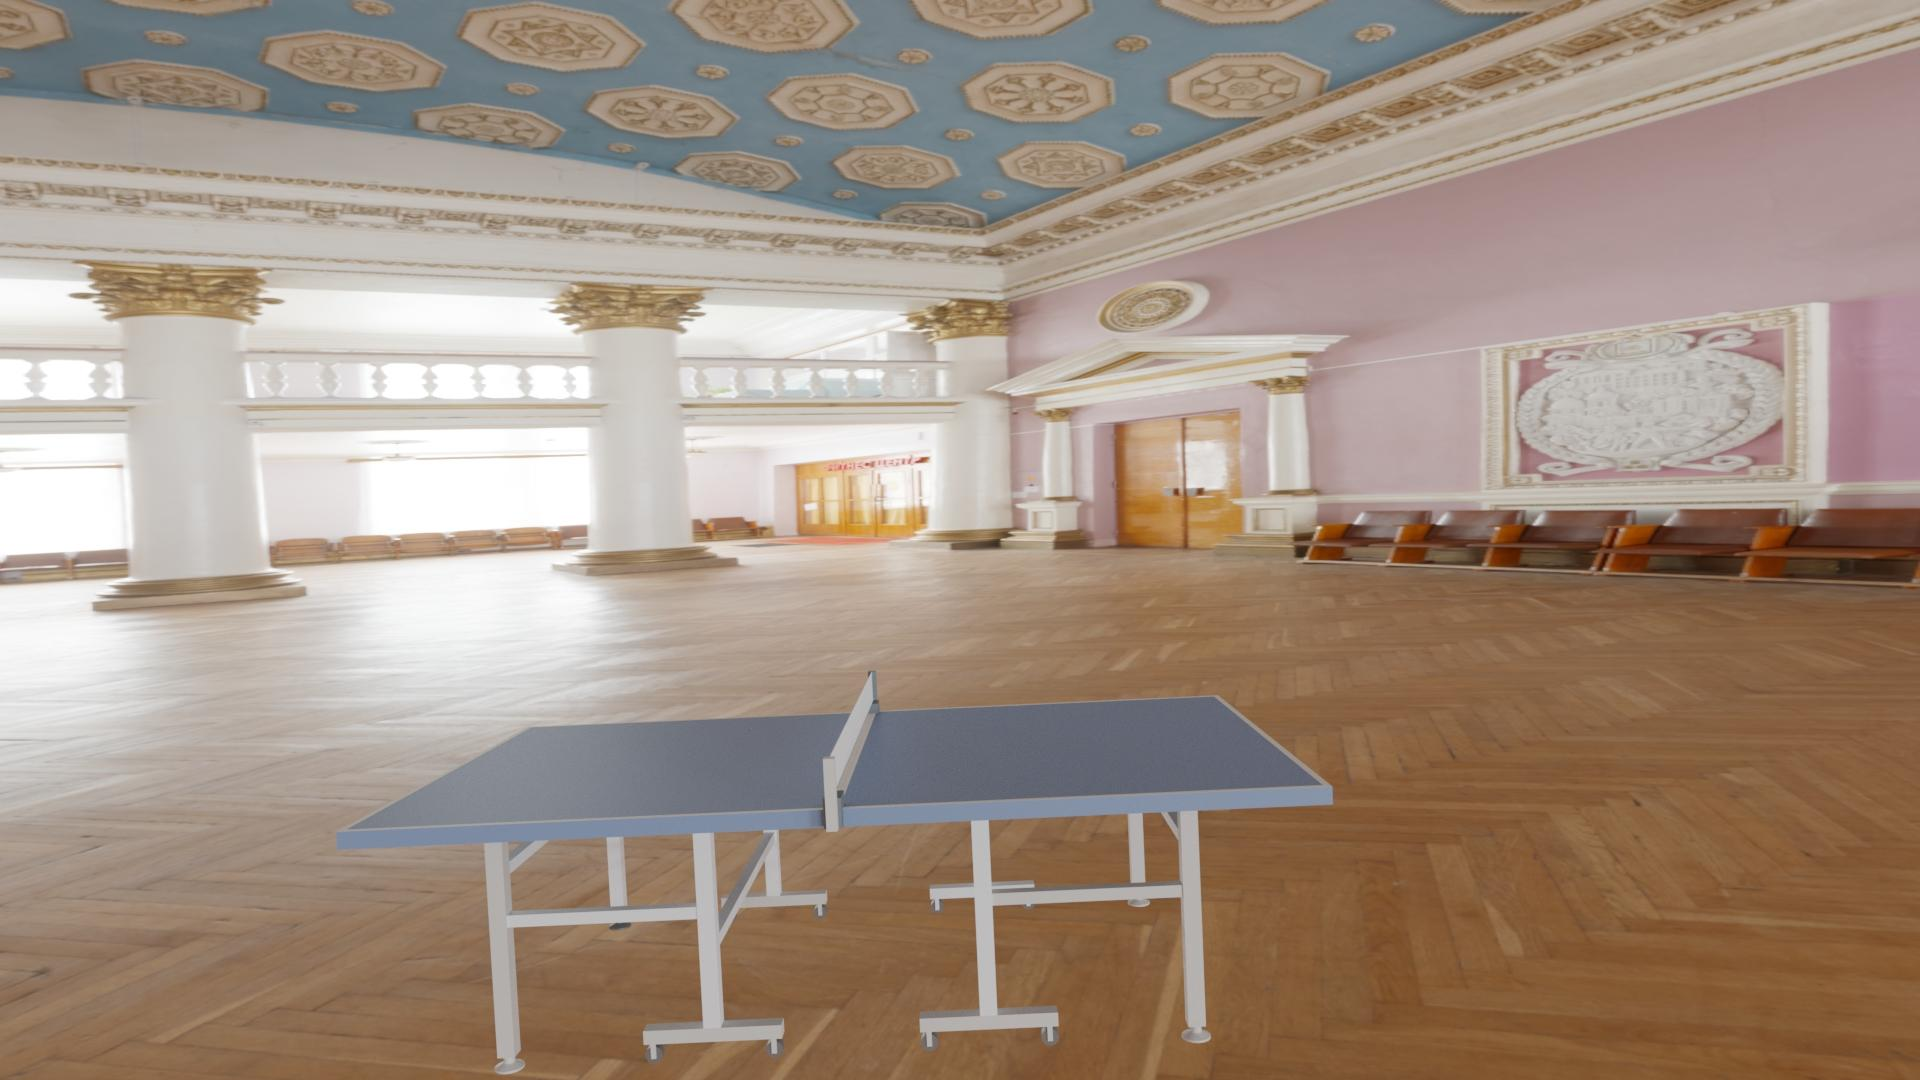table: (347, 696, 1323, 829)
